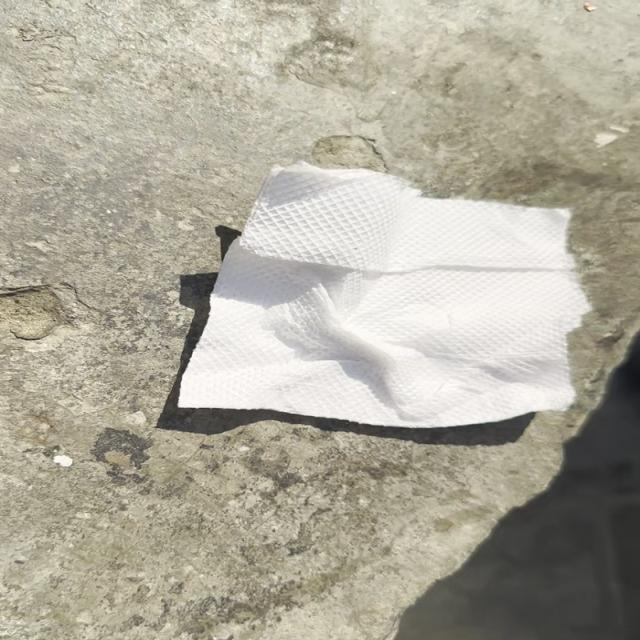tissue: (174, 160, 591, 422)
